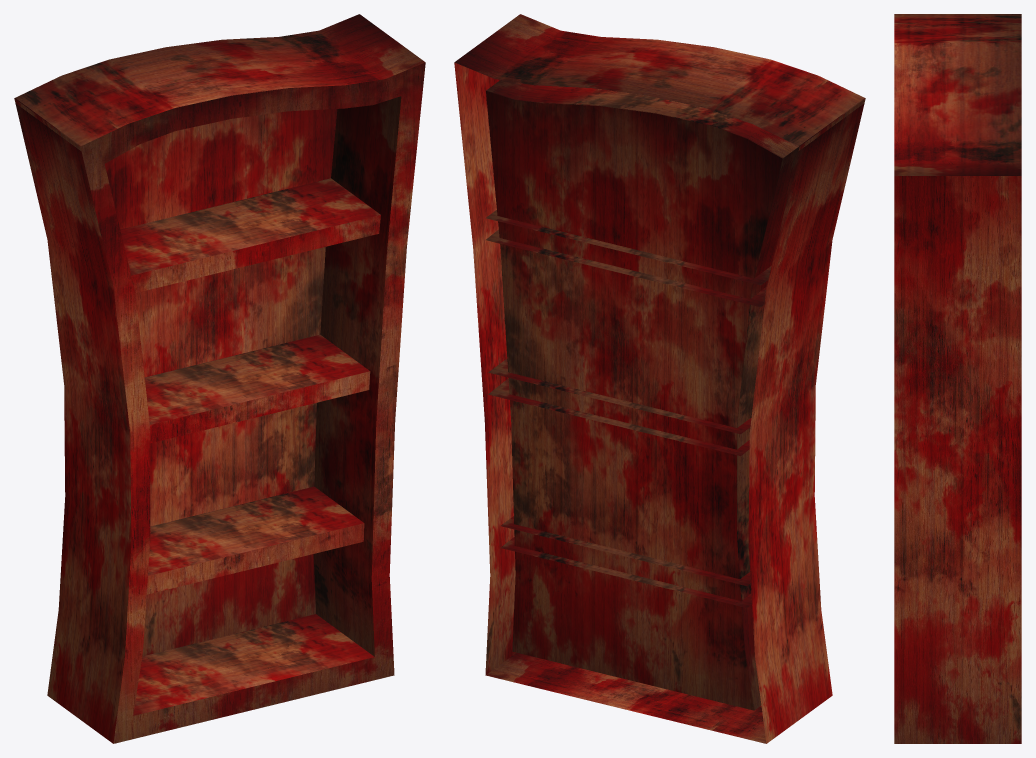
File: Wooden Shelf.FBX
3 views of the same model, side by side, from view 1: azimuth 30°, elevation 25°; view 2: azimuth 150°, elevation 25°; view 3: azimuth 270°, elevation 25° (orthographic). The views are drawn at different scales.
Parts seen in each view (by area): view 1: Box001; view 2: Box001; view 3: Box001.
Part boxes in pixels (x1,y1,x2,y2): Box001: (14,14,425,743); Box001: (454,14,865,743); Box001: (894,14,1021,743).
Bounding box in the file's own units: 47.09 × 80.92 × 15.62.
1 material, 1 textured.
